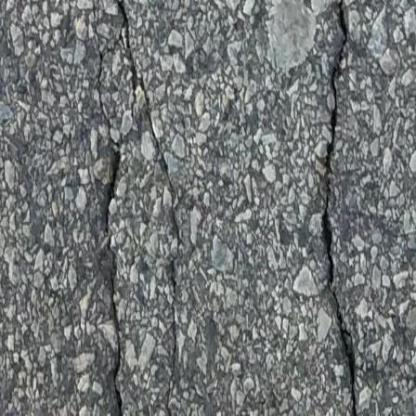Cracks: (89, 0, 201, 416), (274, 0, 383, 416)
